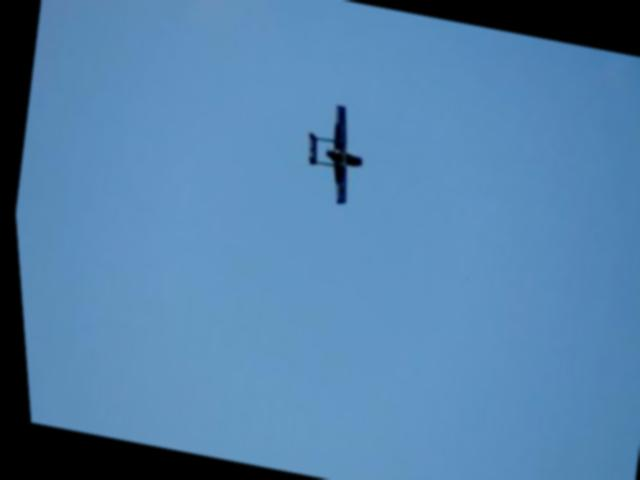uav: (289, 95, 372, 212)
